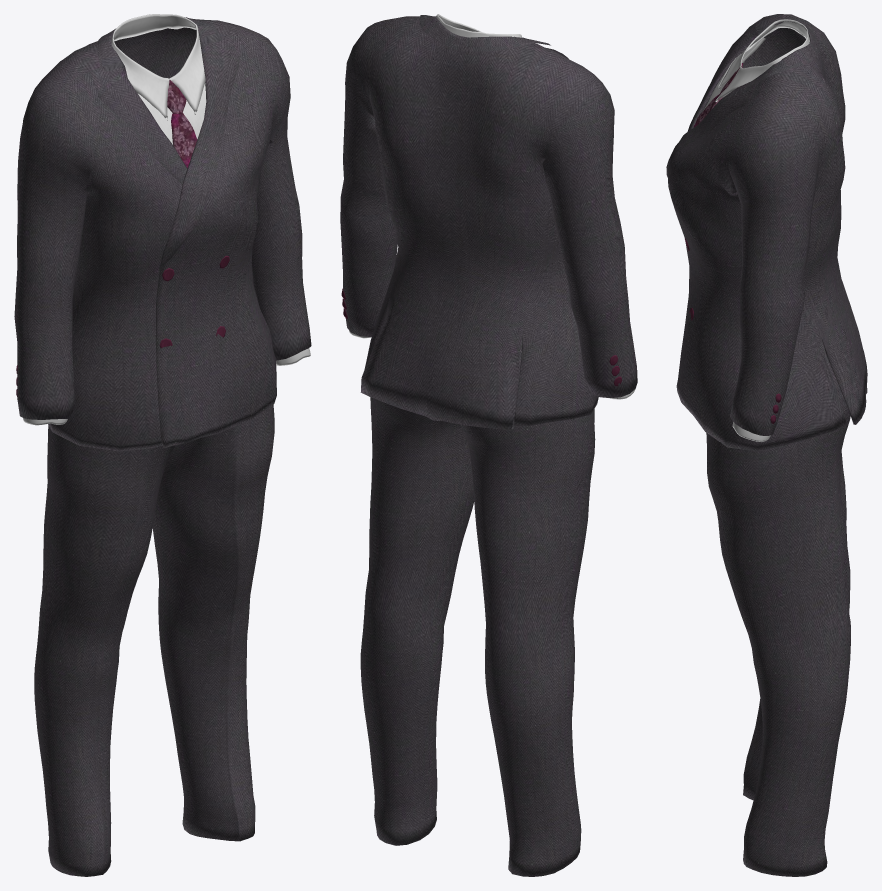
File: full_trouser_suit_f.gltf
3 renders of one model, left to right at view 1: azimuth 30°, elevation 25°; view 2: azimuth 150°, elevation 25°; view 3: azimuth 270°, elevation 25°, orthographic. The views are drawn at different scales.
Visible parts, largest first — view 1: full_trouser_suit_f; view 2: full_trouser_suit_f; view 3: full_trouser_suit_f.
Part boxes in pixels (x1,y1,x2,y2): full_trouser_suit_f: (14,14,311,876); full_trouser_suit_f: (340,14,637,876); full_trouser_suit_f: (666,14,867,876).
Size of the model in its own units: 0.5086 by 1.4 by 0.3182.
1 material, 1 textured.
